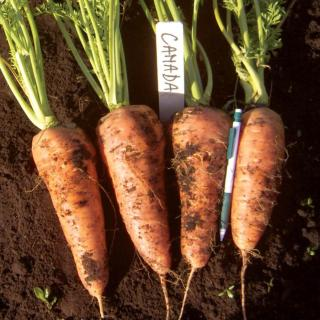Wortel: (2, 7, 298, 300)
